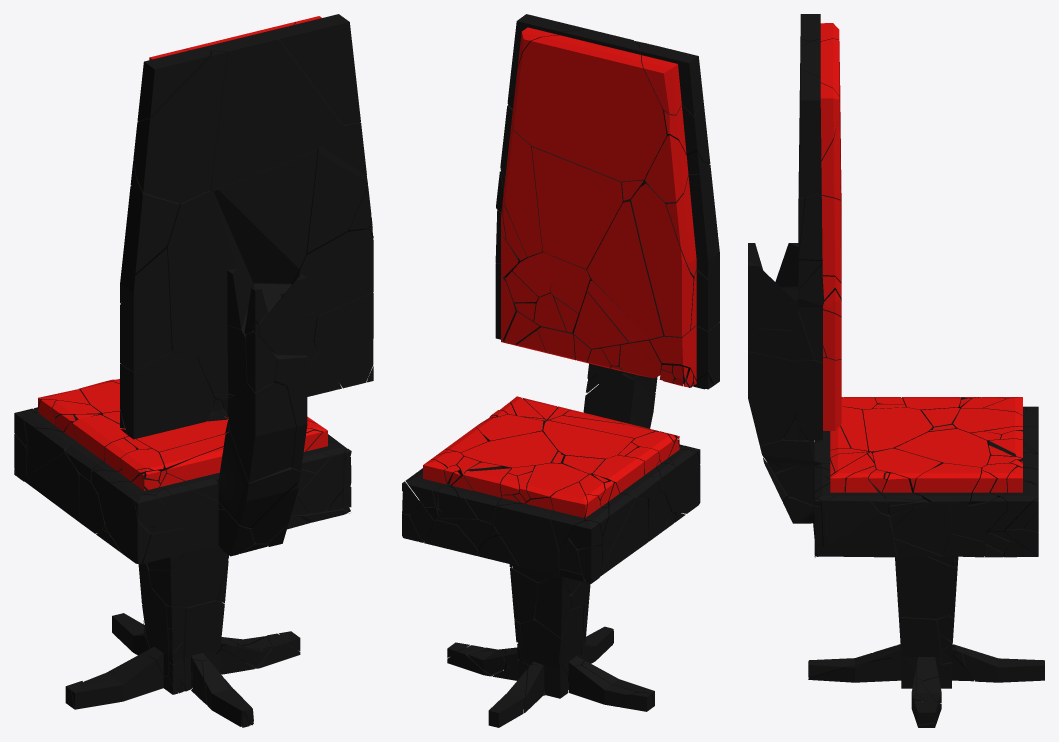
File: Office Chair Boss.fbx
3 views of the same model, side by side, from view 1: azimuth 30°, elevation 25°; view 2: azimuth 150°, elevation 25°; view 3: azimuth 270°, elevation 25° (orthographic). The views are drawn at different scales.
Visible parts, largest first — view 1: Office Chair.002_cell.112, Office Chair.002_cell.031, Office Chair.002_cell.099, Office Chair.002_cell.028, Office Chair.002_cell.035, Office Chair.002_cell.042, Office Chair.002_cell.025, Office Chair.002_cell.027, Office Chair.002_cell.034, Office Chair.002_cell.038, Office Chair.002_cell.041, Office Chair.002_cell.010 (+37 smaller); view 2: Office Chair.002_cell.112, Office Chair.002_cell.028, Office Chair.002_cell.026, Office Chair.002_cell.031, Office Chair.002_cell.084, Office Chair.002_cell.013, Office Chair.002_cell.101, Office Chair.002_cell.040, Office Chair.002_cell.025, Office Chair.002_cell.010, Office Chair.002_cell.035, Office Chair.002_cell.055 (+50 smaller); view 3: Office Chair.002_cell.024, Office Chair.002_cell.042, Office Chair.002_cell.041, Office Chair.002_cell.009, Office Chair.002_cell.101, Office Chair.002_cell.112, Office Chair.002_cell.055, Office Chair.002_cell.167_cell.002, Office Chair.002_cell.116, Office Chair.002_cell.003, Office Chair.002_cell.156_cell.004, Office Chair.002_cell.067 (+34 smaller).
Boxes of the visible parts, <box> form: Office Chair.002_cell.112: <box>184,21,342,190</box>; Office Chair.002_cell.031: <box>165,190,253,356</box>; Office Chair.002_cell.099: <box>133,51,227,203</box>; Office Chair.002_cell.028: <box>210,150,317,283</box>; Office Chair.002_cell.035: <box>120,351,214,439</box>; Office Chair.002_cell.042: <box>280,14,360,125</box>; Office Chair.002_cell.025: <box>166,431,300,528</box>; Office Chair.002_cell.027: <box>228,382,295,482</box>; Office Chair.002_cell.034: <box>120,248,171,371</box>; Office Chair.002_cell.038: <box>290,229,373,315</box>; Office Chair.002_cell.041: <box>313,292,373,388</box>; Office Chair.002_cell.010: <box>142,588,224,691</box>; Office Chair.002_cell.112: <box>507,29,666,181</box>; Office Chair.002_cell.028: <box>532,146,633,268</box>; Office Chair.002_cell.026: <box>631,179,693,336</box>; Office Chair.002_cell.031: <box>587,180,664,339</box>; Office Chair.002_cell.084: <box>666,162,717,278</box>; Office Chair.002_cell.013: <box>493,497,559,575</box>; Office Chair.002_cell.101: <box>500,105,543,256</box>; Office Chair.002_cell.040: <box>639,44,703,116</box>; Office Chair.002_cell.025: <box>563,373,659,431</box>; Office Chair.002_cell.010: <box>521,606,584,682</box>; Office Chair.002_cell.035: <box>649,322,719,385</box>; Office Chair.002_cell.055: <box>461,431,557,468</box>; Office Chair.002_cell.024: <box>748,351,798,445</box>; Office Chair.002_cell.042: <box>799,69,839,197</box>; Office Chair.002_cell.041: <box>798,357,841,440</box>; Office Chair.002_cell.009: <box>896,556,951,618</box>; Office Chair.002_cell.101: <box>798,193,841,283</box>; Office Chair.002_cell.112: <box>799,38,840,200</box>; Office Chair.002_cell.055: <box>894,428,990,469</box>; Office Chair.002_cell.167_cell.002: <box>827,466,883,541</box>; Office Chair.002_cell.116: <box>862,407,932,454</box>; Office Chair.002_cell.003: <box>816,512,897,557</box>; Office Chair.002_cell.156_cell.004: <box>892,502,950,555</box>; Office Chair.002_cell.067: <box>913,463,981,504</box>.
Bounding box in the file's own units: 61.06 × 166 × 71.98.
